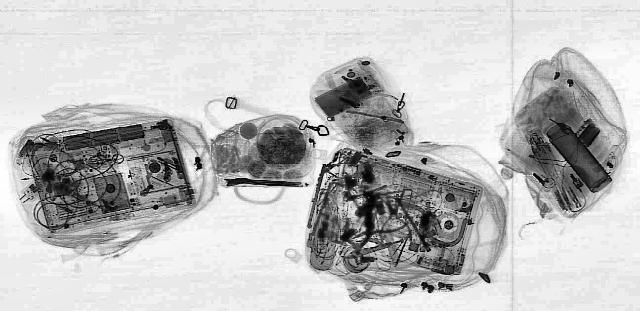Pliers: (326, 210, 412, 252)
